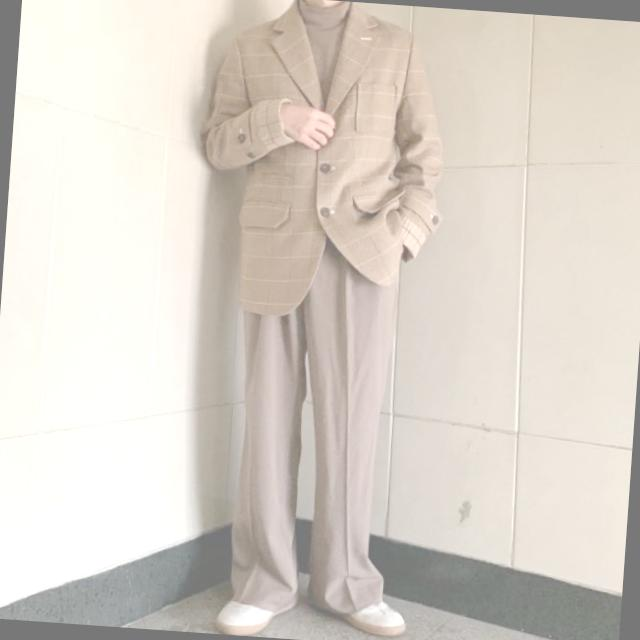blazer: (189, 0, 459, 324)
slacks: (211, 214, 411, 620)
